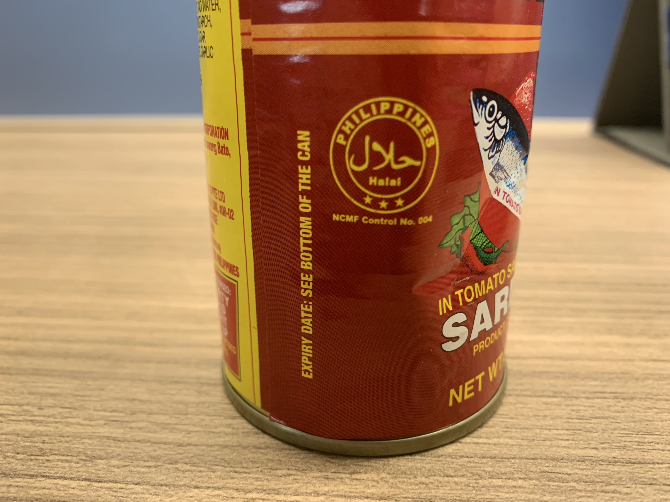halal: (352, 113, 420, 202)
